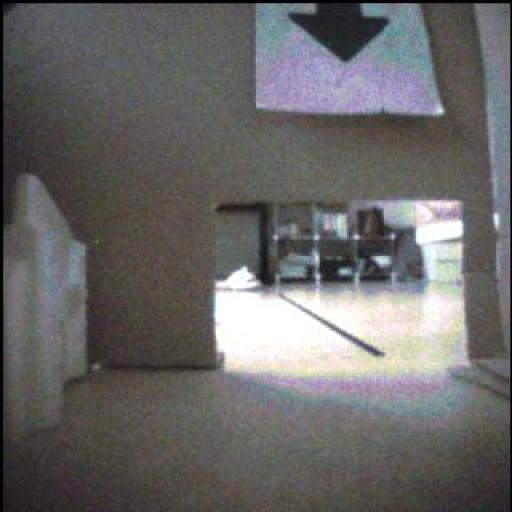arrow: (291, 4, 390, 62)
